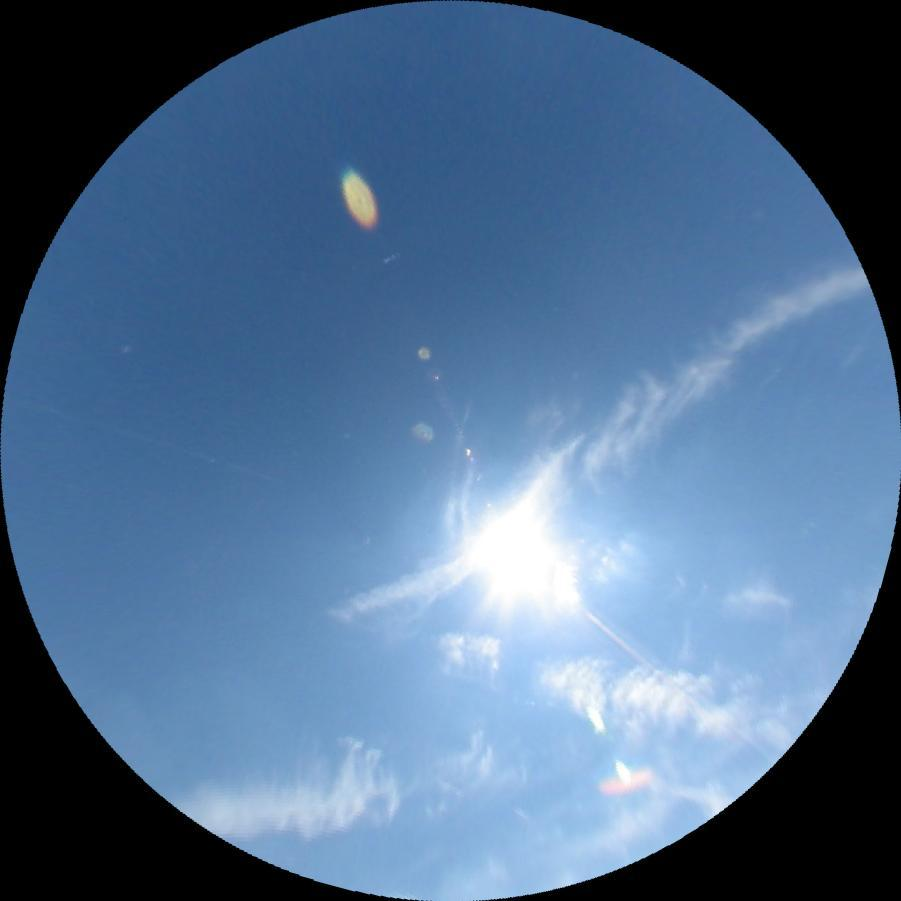contrail veryold: (317, 224, 876, 673), (431, 619, 737, 737)
parasite: (575, 602, 662, 678)
sun: (476, 511, 563, 599)
